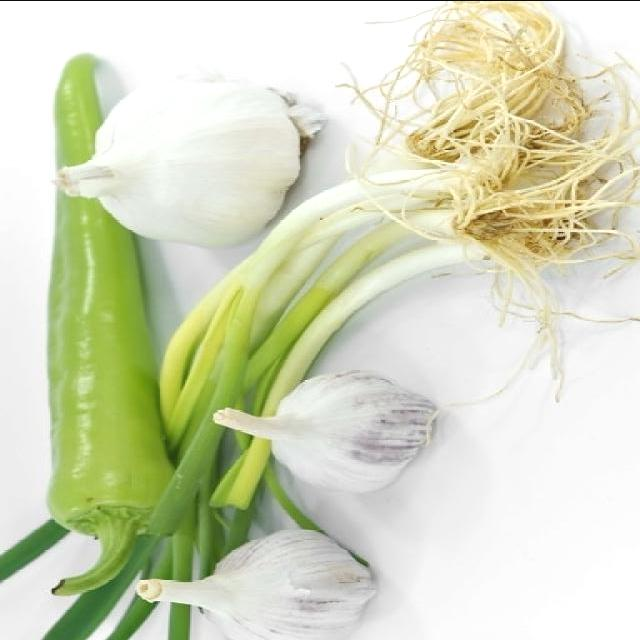garlic: (67, 71, 310, 240), (221, 370, 437, 489), (151, 531, 378, 640)
